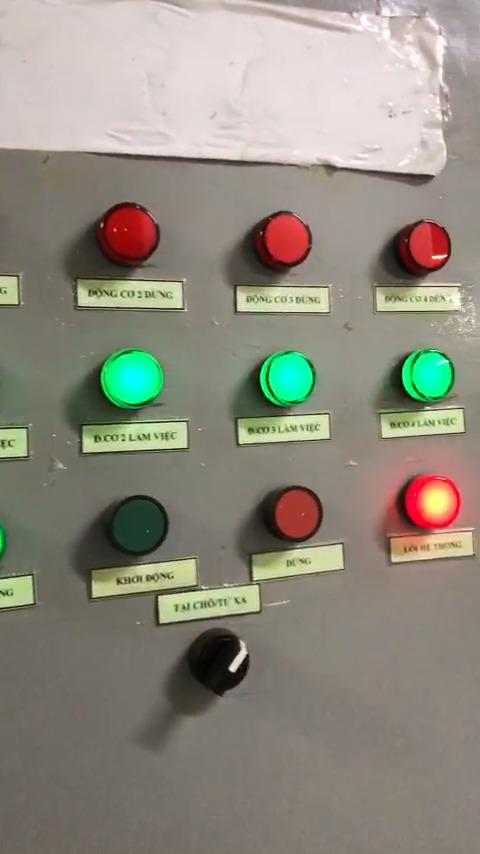led: (93, 199, 165, 265), (106, 492, 173, 560), (97, 345, 163, 413), (400, 470, 464, 538), (254, 344, 318, 409), (249, 204, 311, 270), (267, 484, 329, 544), (399, 215, 458, 278), (403, 344, 455, 405)
twist: (186, 626, 255, 694)
